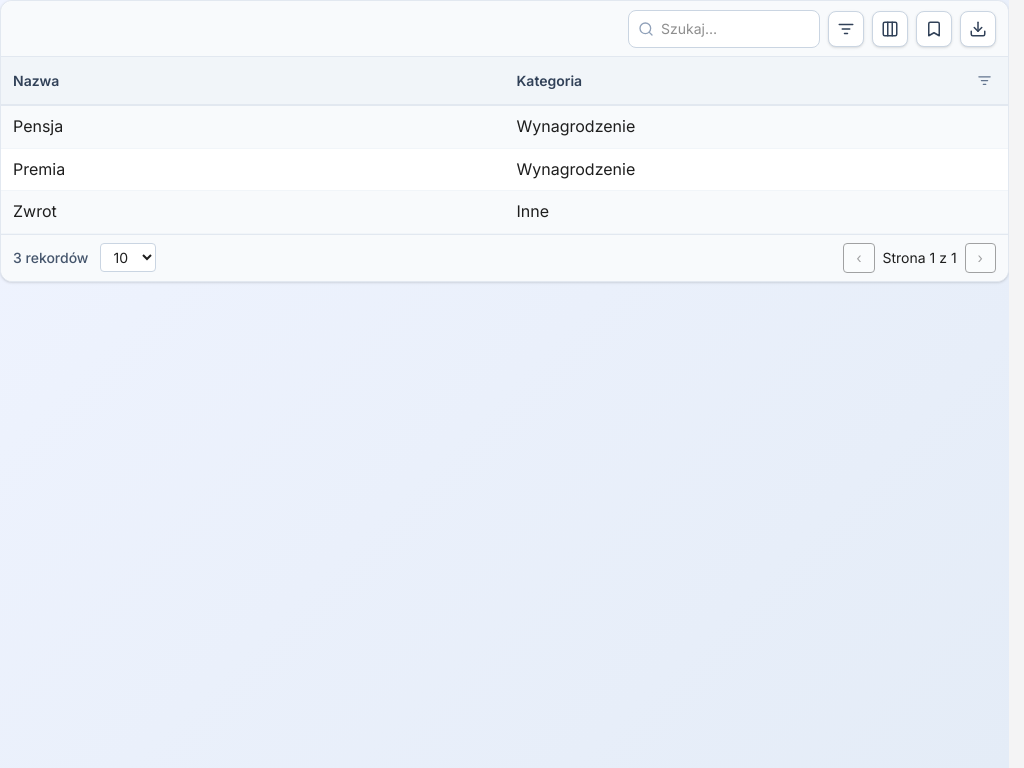
Test: DataGrid inline editing › searches across columns and combines search with column filters
Type "Premia" into the search field named "Szukaj w tabeli" at (724, 28), box [628,10,820,48]
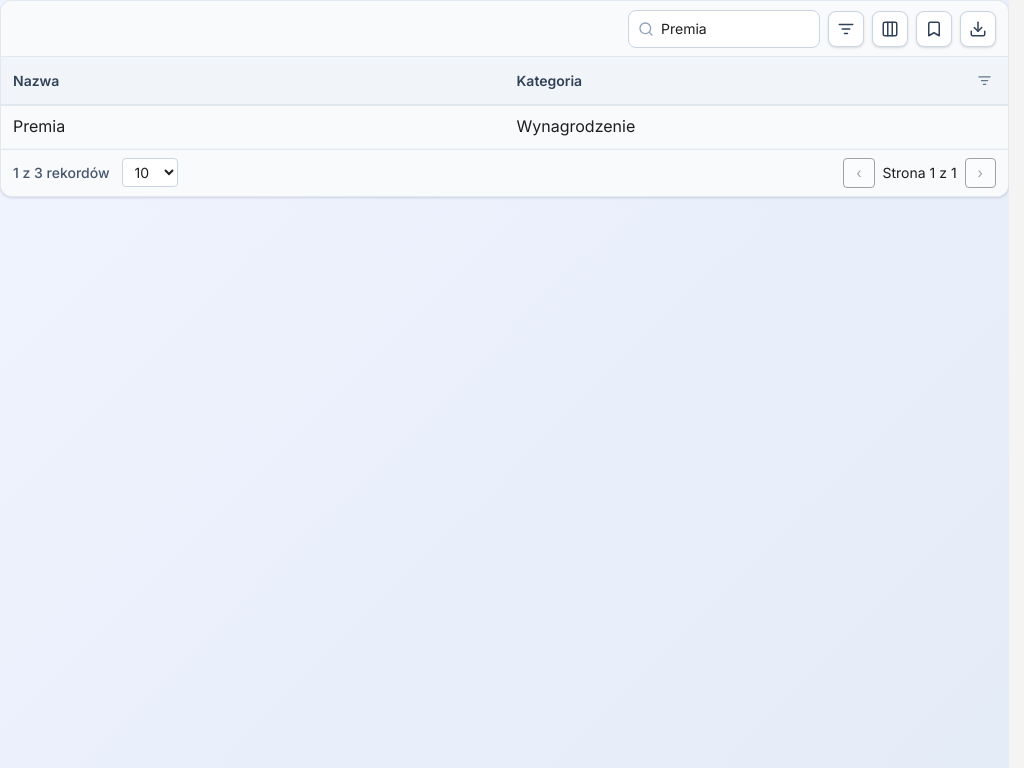
Expected: the text "Premia" is shown, [1,106,504,149]
Result: the text "Pensja" is gone
Clear the search field named "Szukaj w tabeli" at (724, 28), box [628,10,820,48]
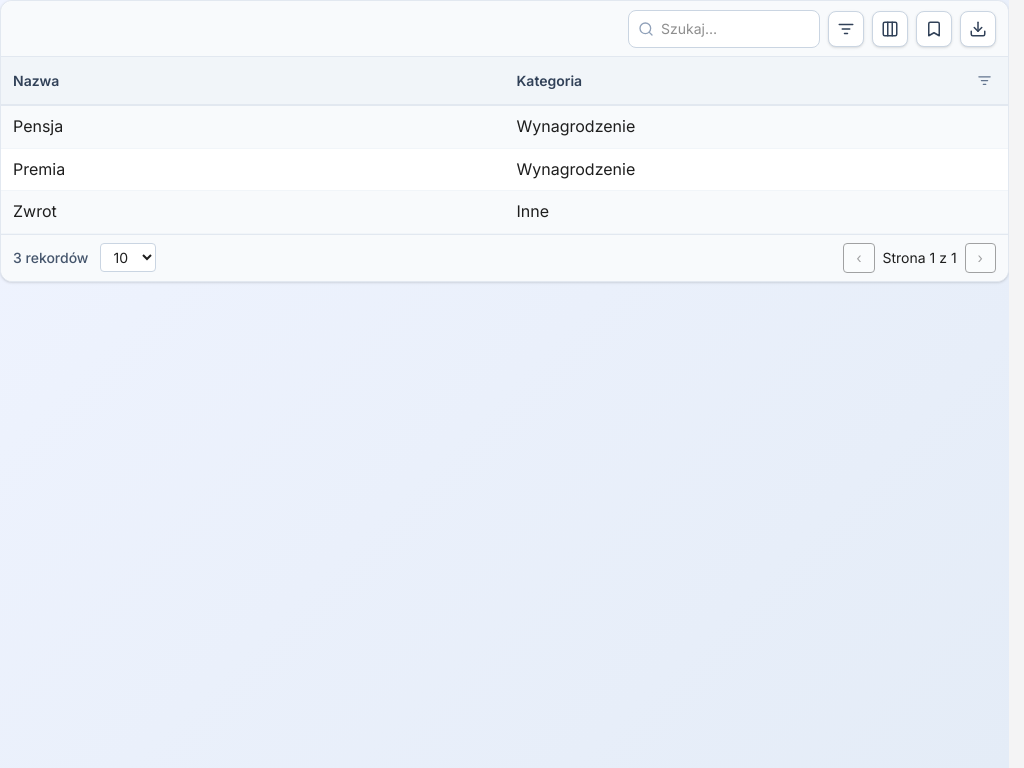
Click the button named "Filtry" at (846, 28), box [828,10,864,46]
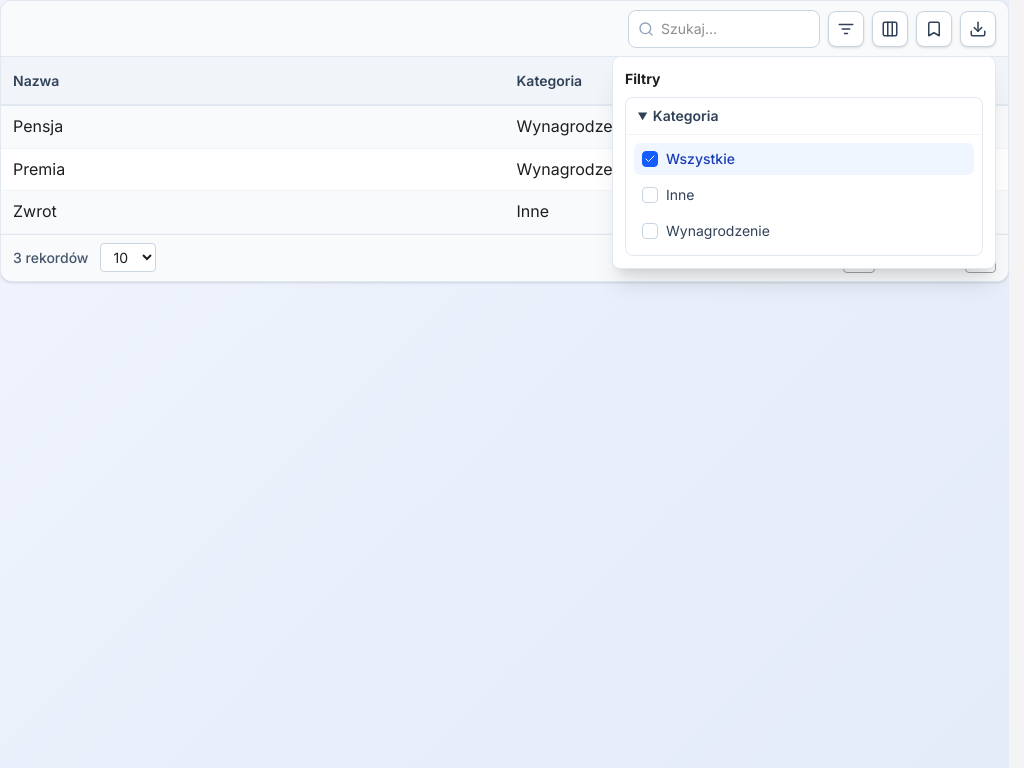
Click the button "Inne" at (650, 194), box [634,178,974,210]
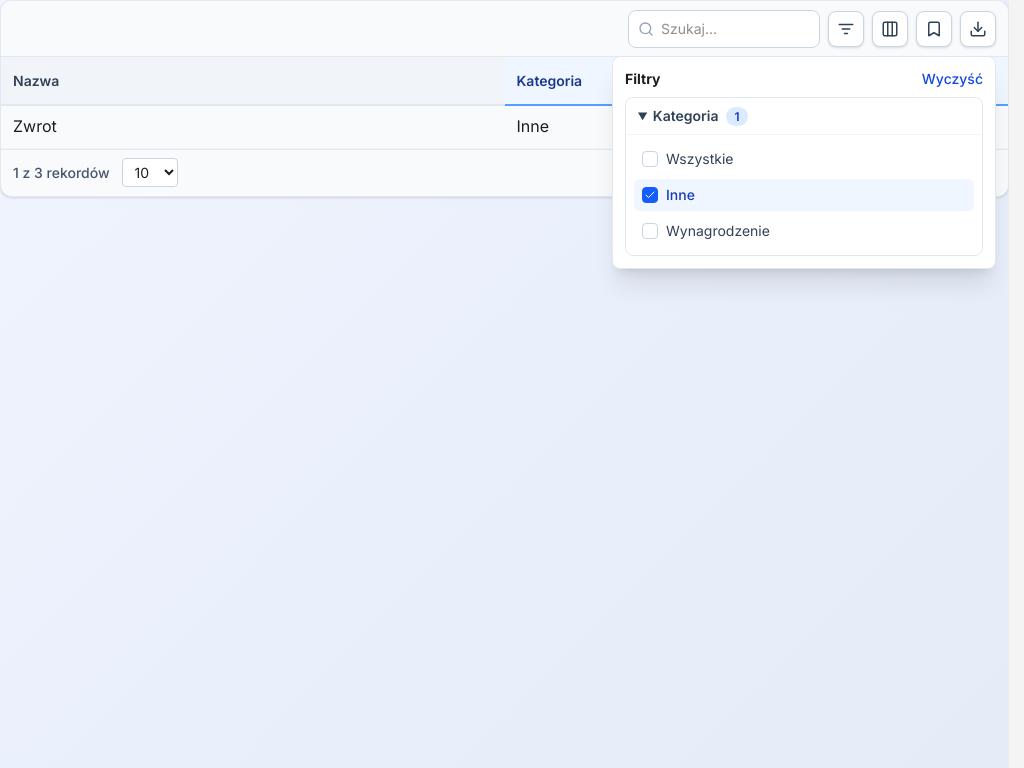
Result: the text "Zwrot" is shown at [1,106,504,149]
Result: the text "Pensja" is gone
